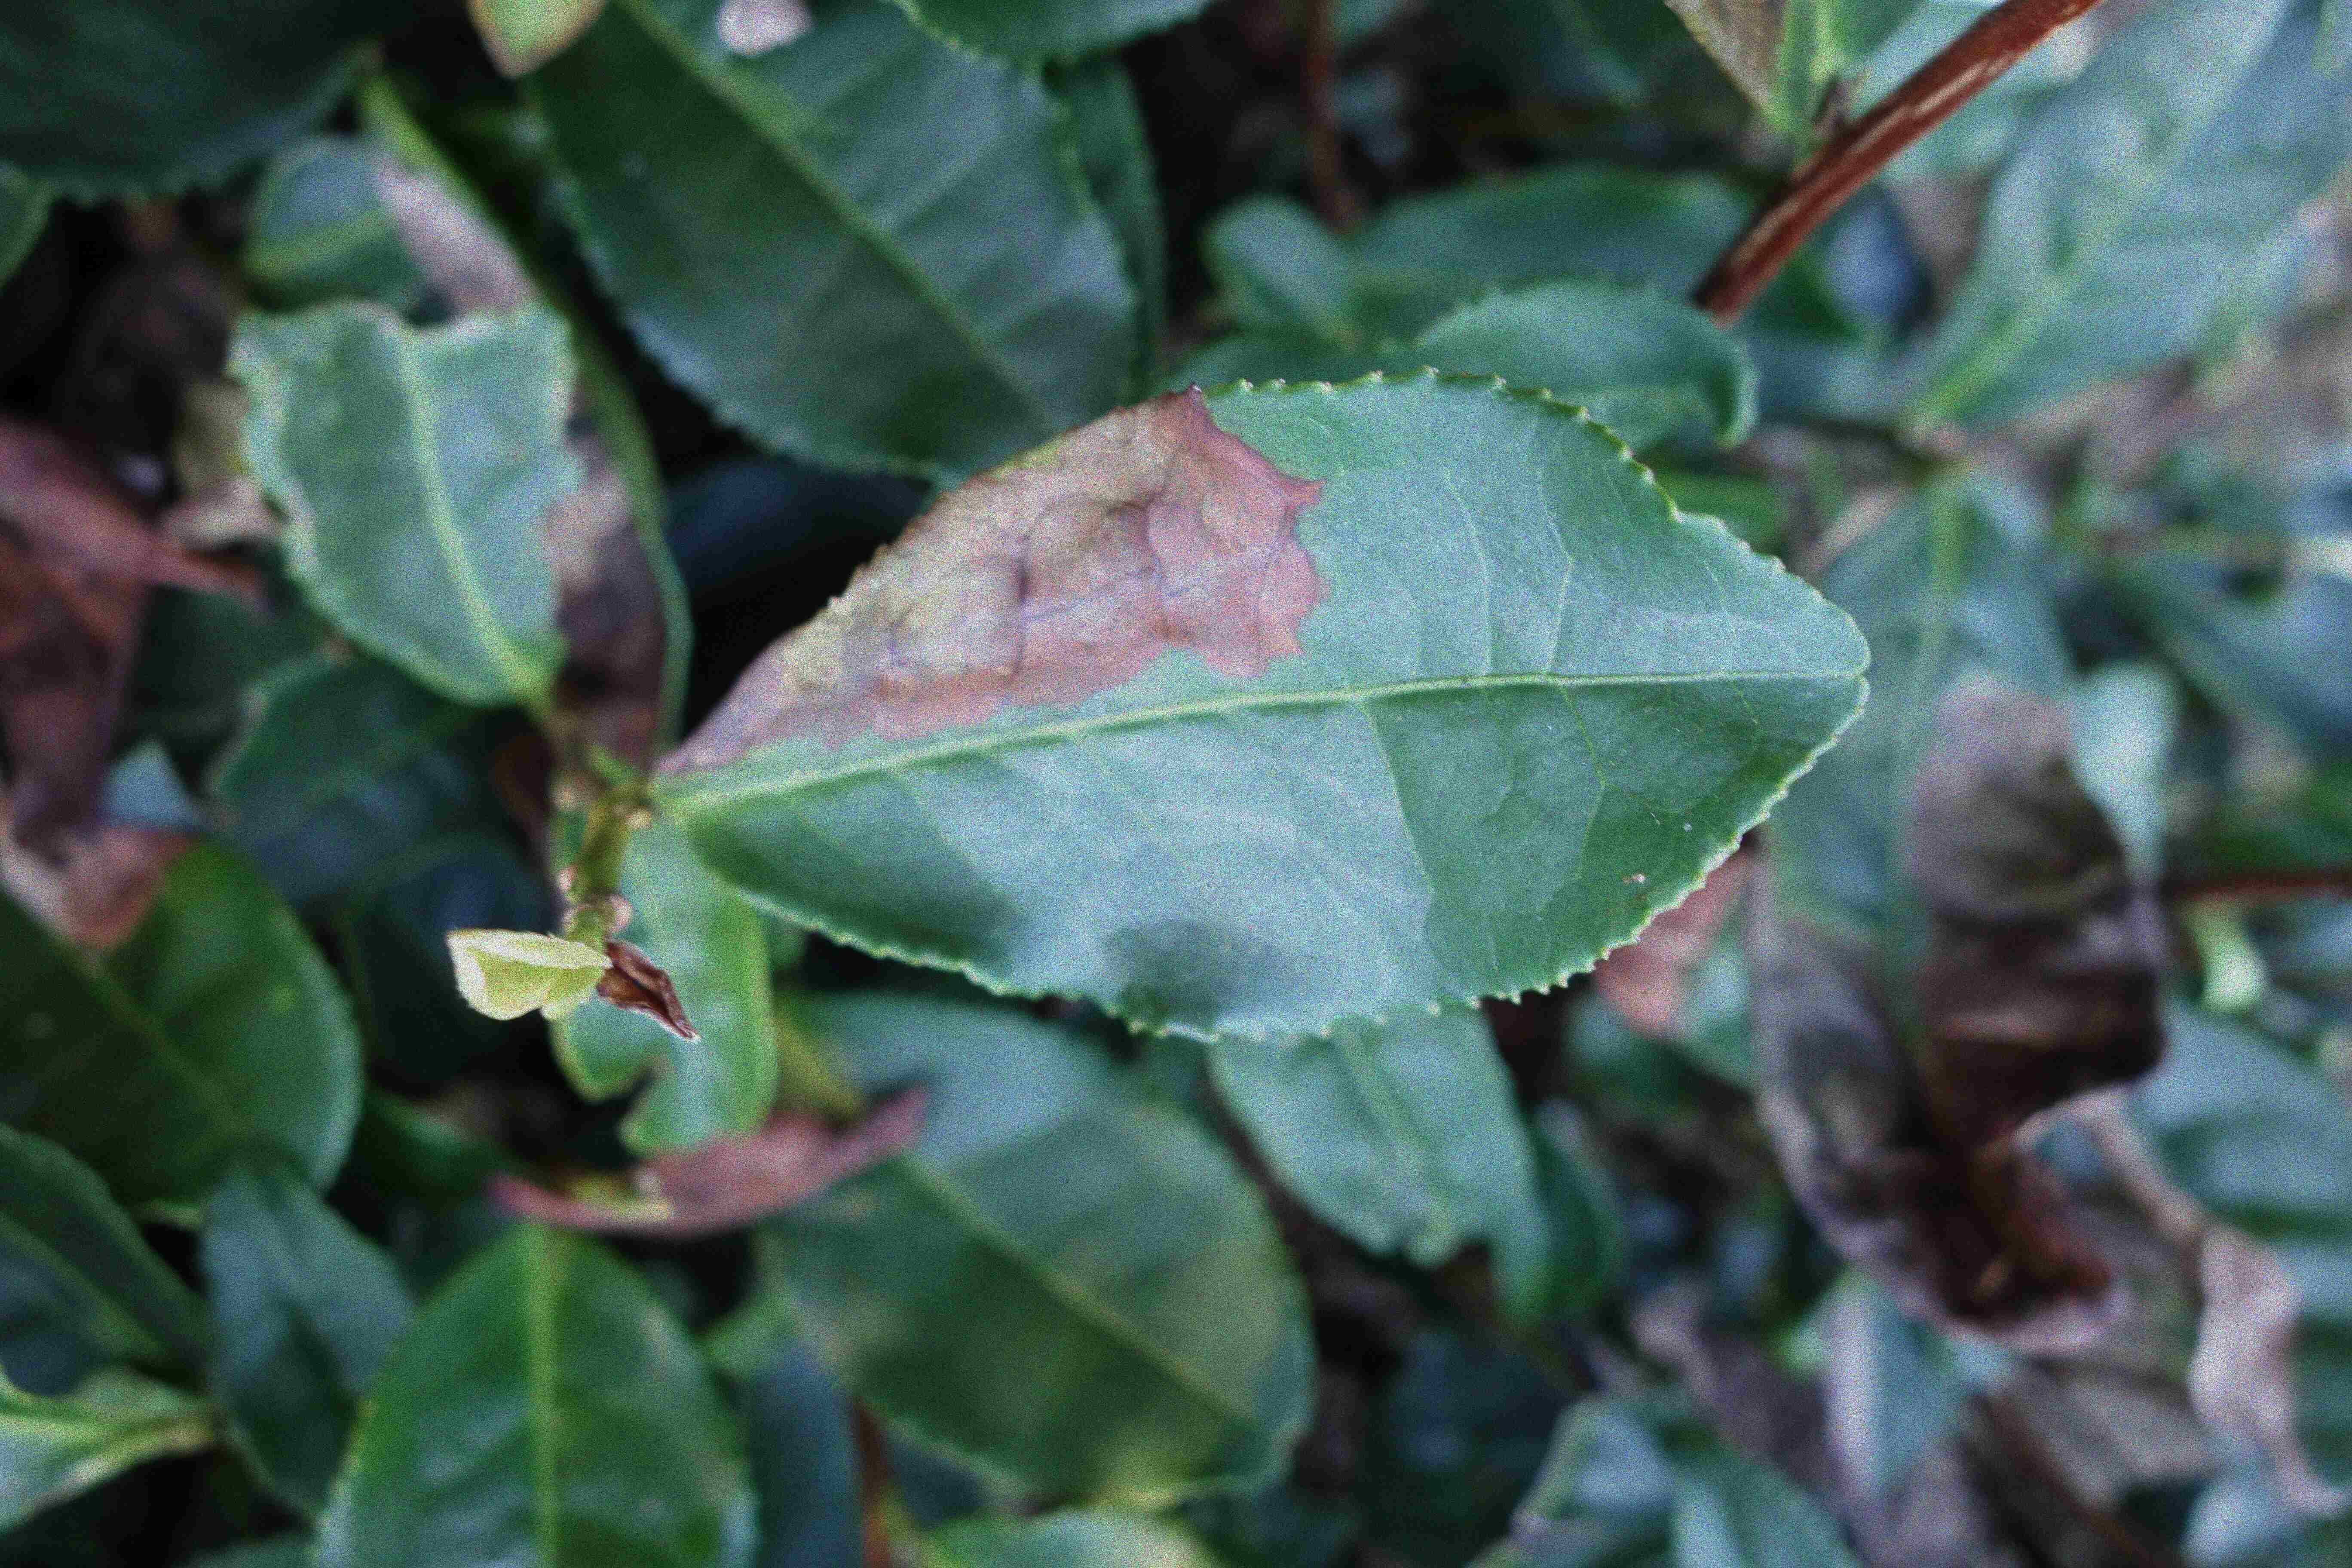tanju_high: (663, 371, 1871, 1048)
